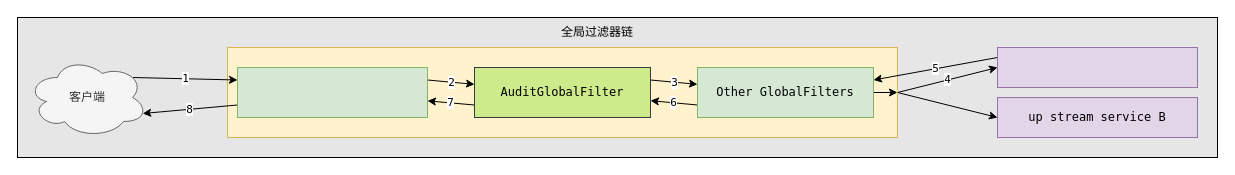
This 1235x175 diagram has some shape labels left out. Each missing label, with the centre of its shape:
"NettyWriteResponseFilter" belongs at pixel 332 92.
"up stream service A" belongs at pixel 1097 67.
